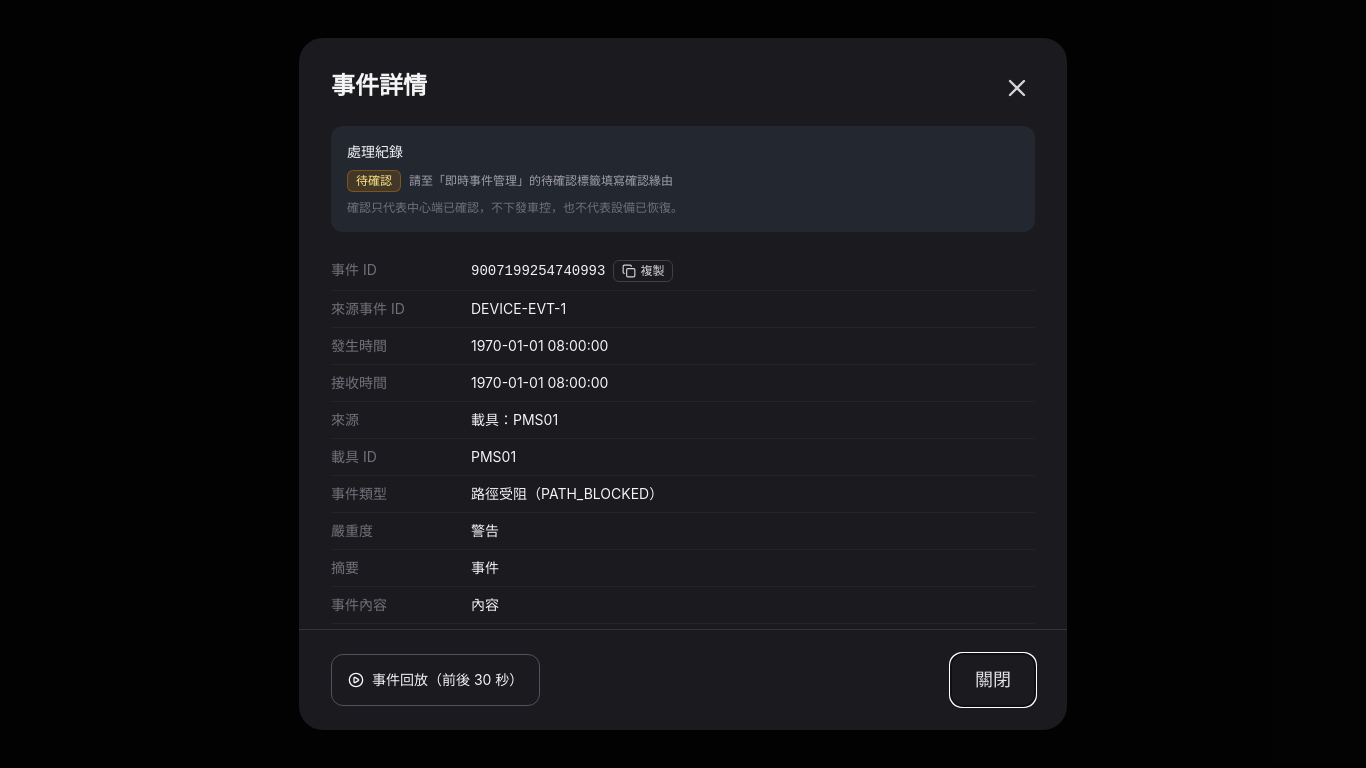
Scenario: 事件詳情的事件 ID › 顯示資料庫主鍵並只複製完整事件 ID
The image size is (1366, 768).
What coordinates should you click on to do the following:
click the button with aria-label "複製事件 ID"
I would click on:
 (643, 271)
Its box is 613,260 -> 673,282.
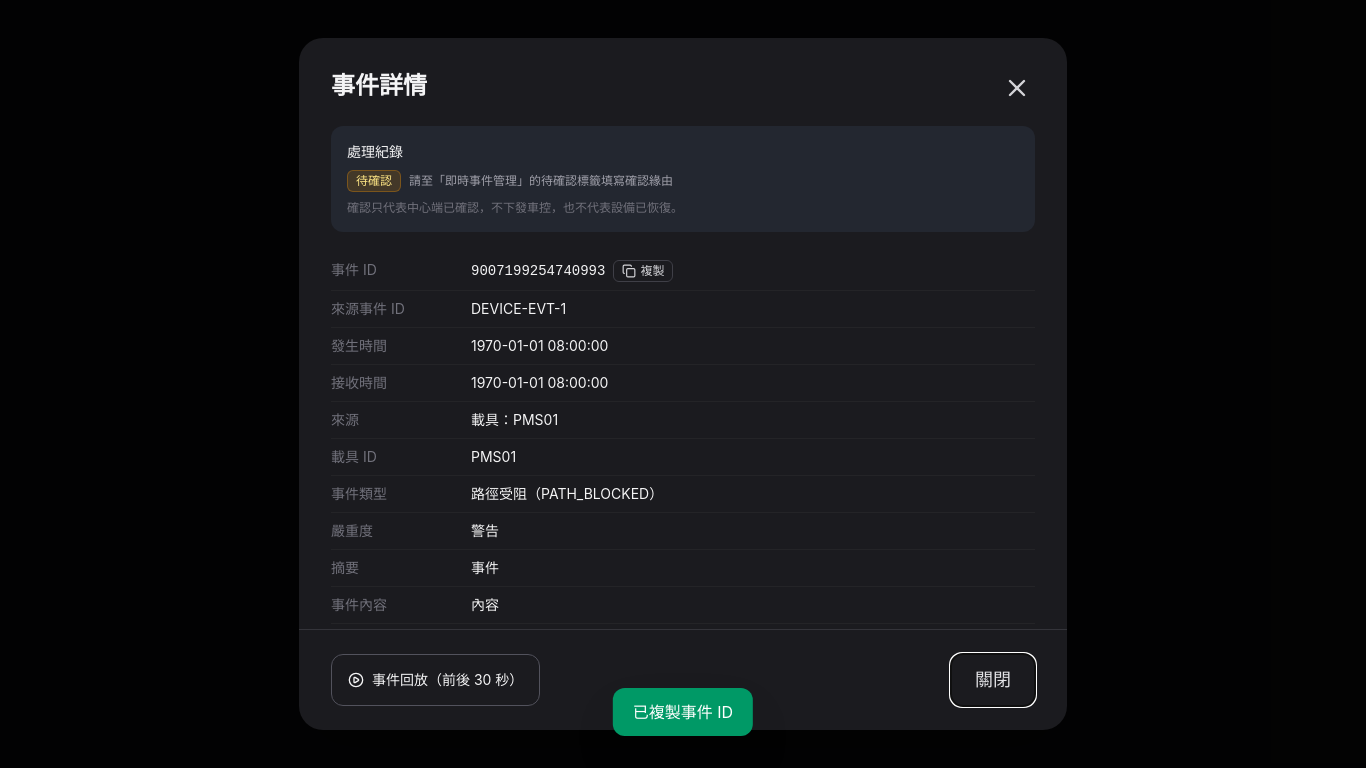
Expected: the text "已複製事件 ID" is shown, 613,688 -> 753,736
